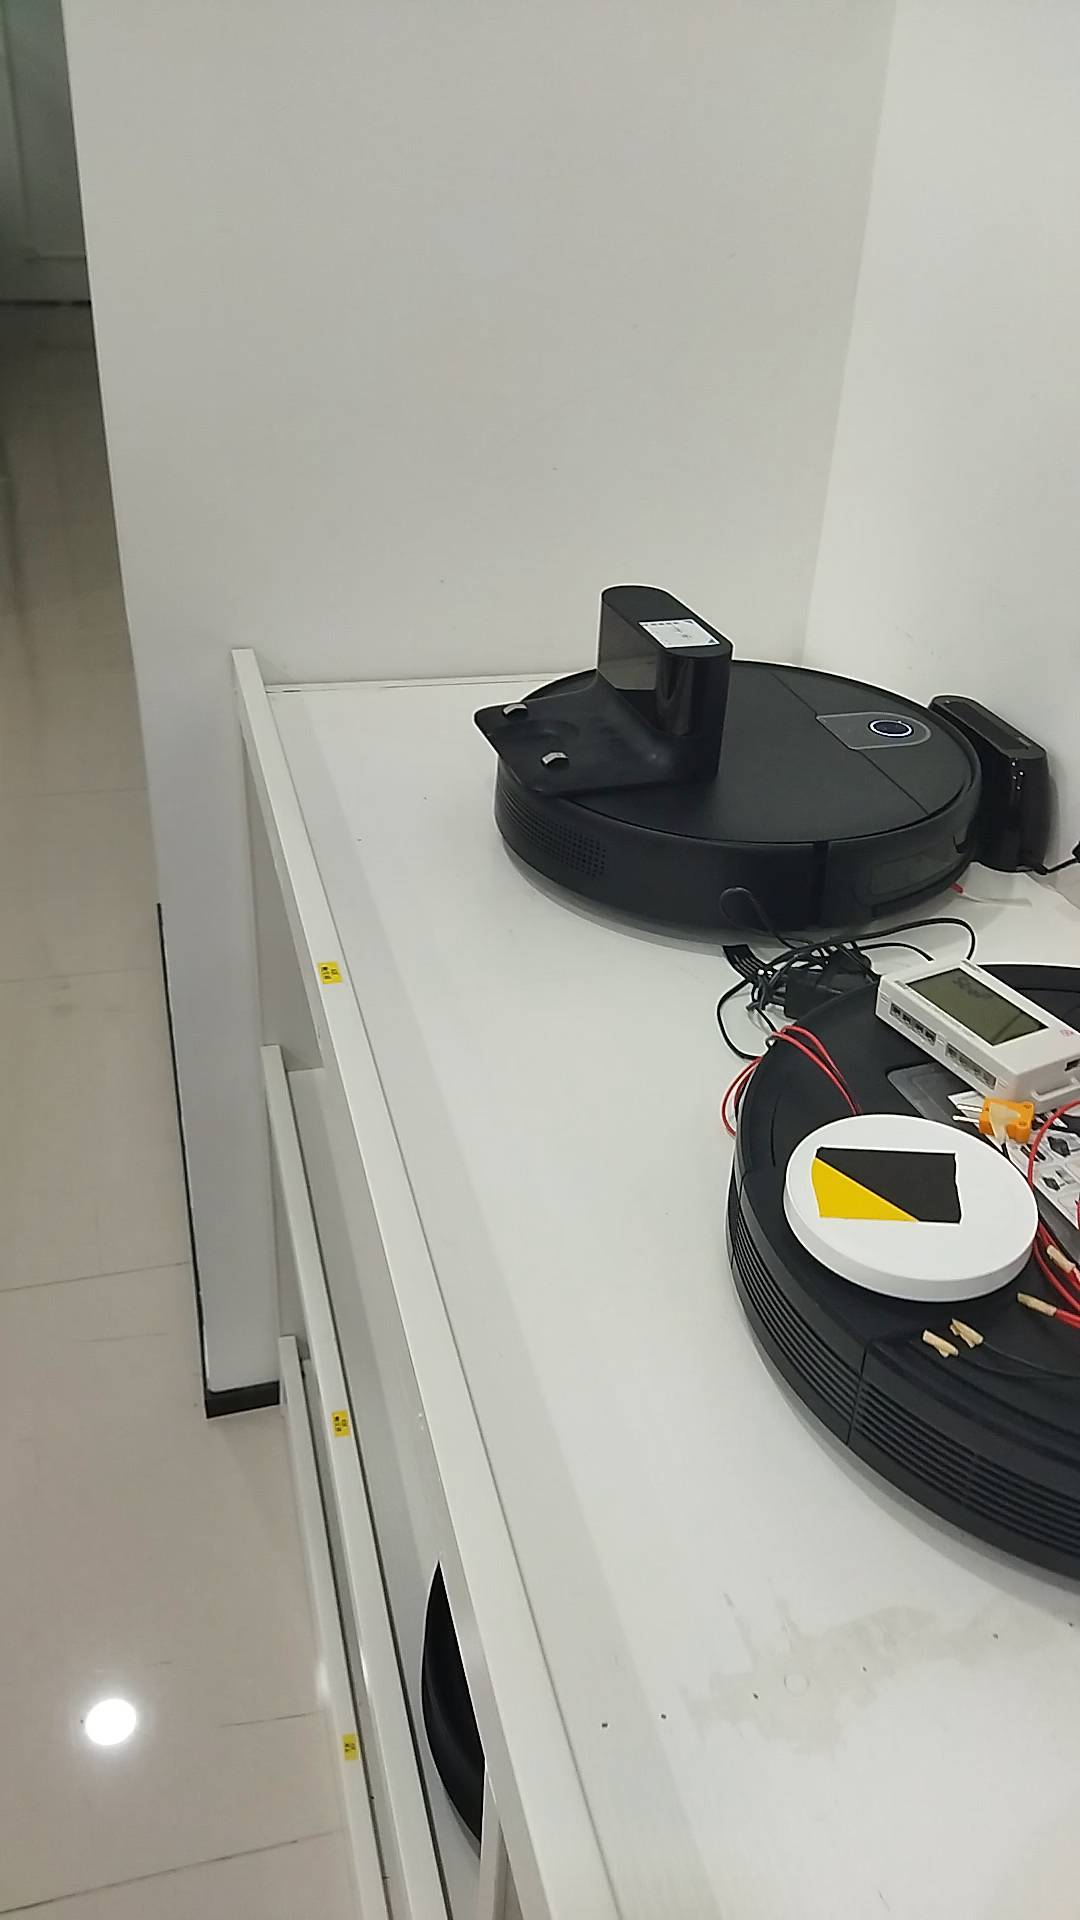recharge seat: (469, 585, 733, 800)
